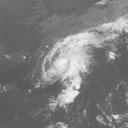cyclone: (42, 32, 94, 86)
